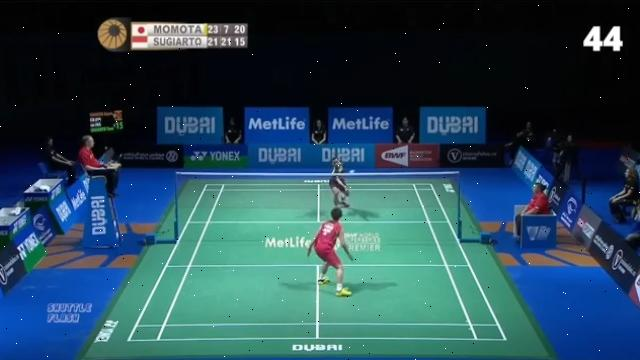Shuttlecock: (346, 168, 358, 178)
